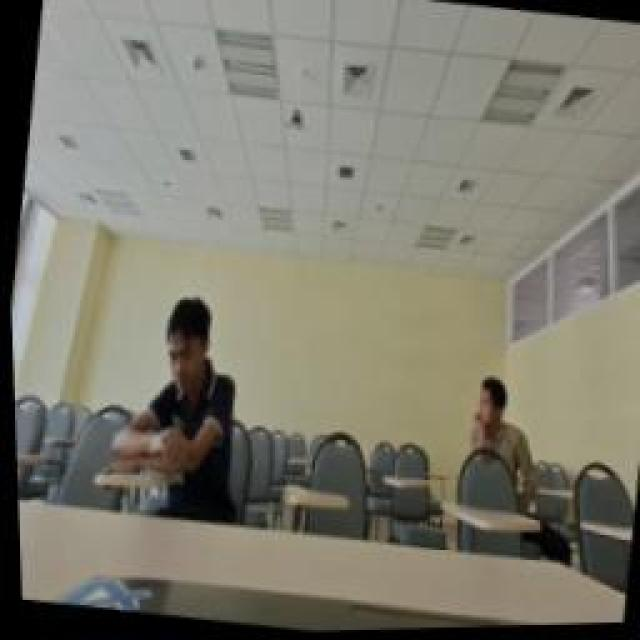sleep: (95, 290, 260, 535)
study: (450, 372, 548, 520)
